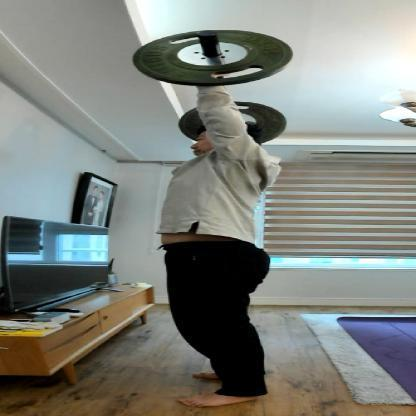barbell: (132, 28, 294, 147)
